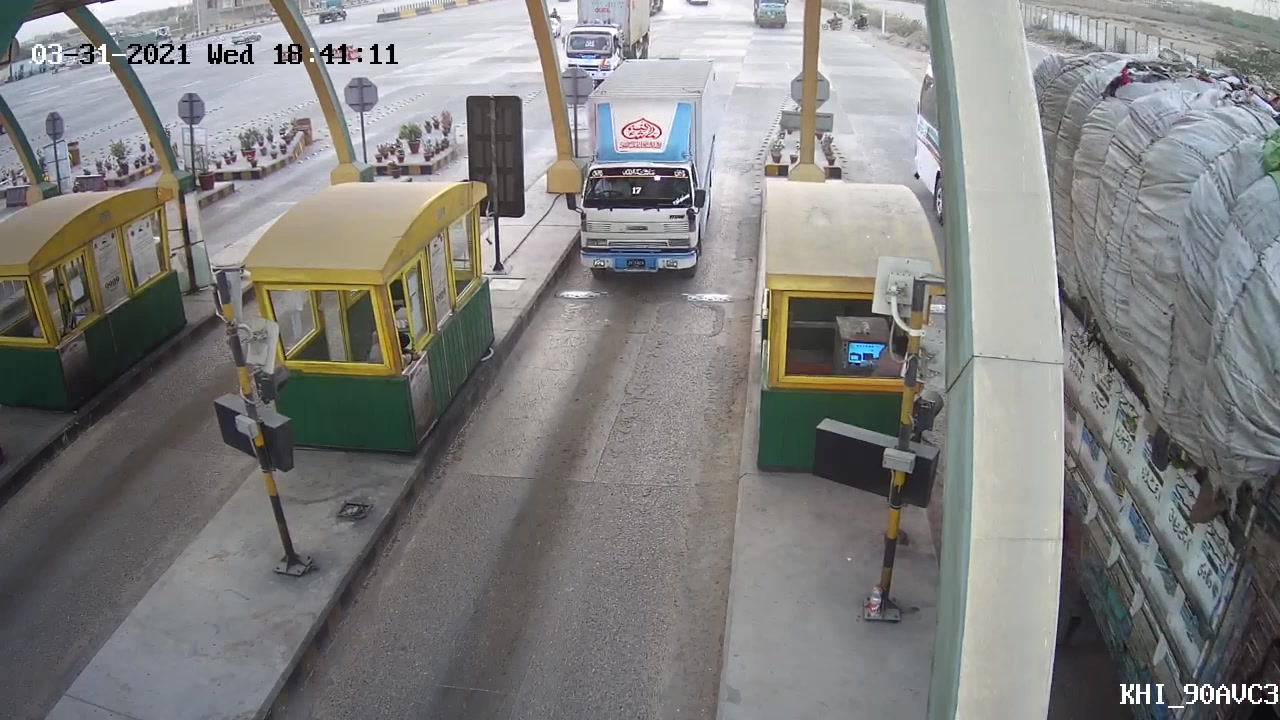F5: (564, 52, 732, 291)
